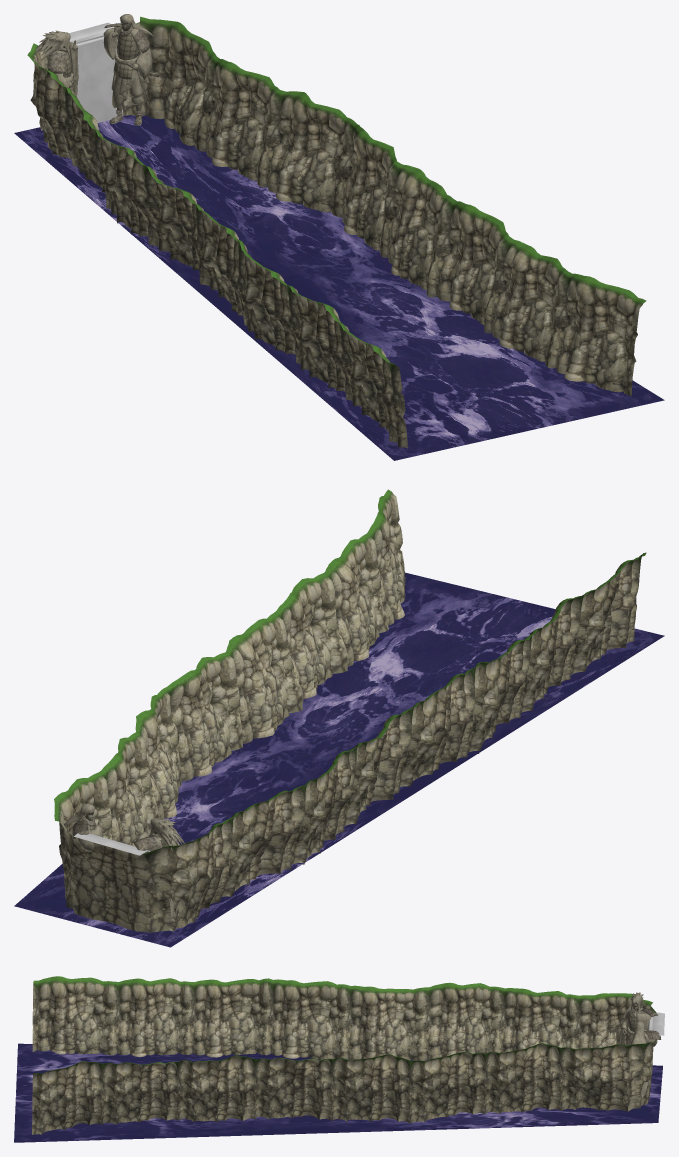
Rendered from Valledelfin.fbx.
3 views of the same model, one above another, from view 1: azimuth 30°, elevation 25°; view 2: azimuth 150°, elevation 25°; view 3: azimuth 270°, elevation 25° (orthographic). The views are drawn at different scales.
Visible parts, largest first — view 1: 40_Cliff_0.1_0_0, Plane, Plane.001, Material.012, Material.014, Material.018, Material.020; view 2: 40_Cliff_0.1_0_0, Plane, Material.014; view 3: 40_Cliff_0.1_0_0, Plane, Material.014, Material.012, Plane.001, Material.020.
Boxes of the visible parts, <box> form: 40_Cliff_0.1_0_0: <box>27,16,646,448</box>; Plane: <box>14,115,664,460</box>; Plane.001: <box>69,22,122,122</box>; Material.012: <box>48,26,152,96</box>; Material.014: <box>34,14,154,104</box>; Material.018: <box>39,70,149,130</box>; Material.020: <box>48,23,150,73</box>; 40_Cliff_0.1_0_0: <box>54,489,646,932</box>; Plane: <box>14,572,664,947</box>; Material.014: <box>62,804,184,850</box>; 40_Cliff_0.1_0_0: <box>32,976,656,1134</box>; Plane: <box>14,1043,662,1142</box>; Material.014: <box>630,992,646,1048</box>; Material.012: <box>619,1007,657,1046</box>; Plane.001: <box>648,1012,664,1035</box>; Material.020: <box>622,1006,661,1045</box>.
Size of the model in its own units: 2013 by 789 by 5701.
Materials: 16 (16 with a texture image).
